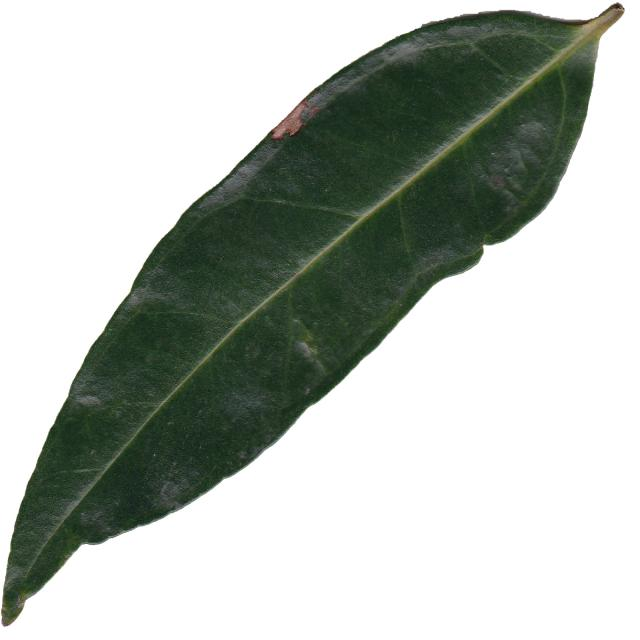Medicinal-Rose Apple: (2, 3, 627, 627)
